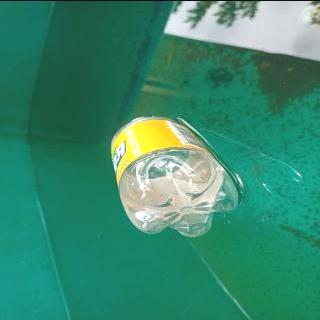bottle: (104, 112, 244, 240)
